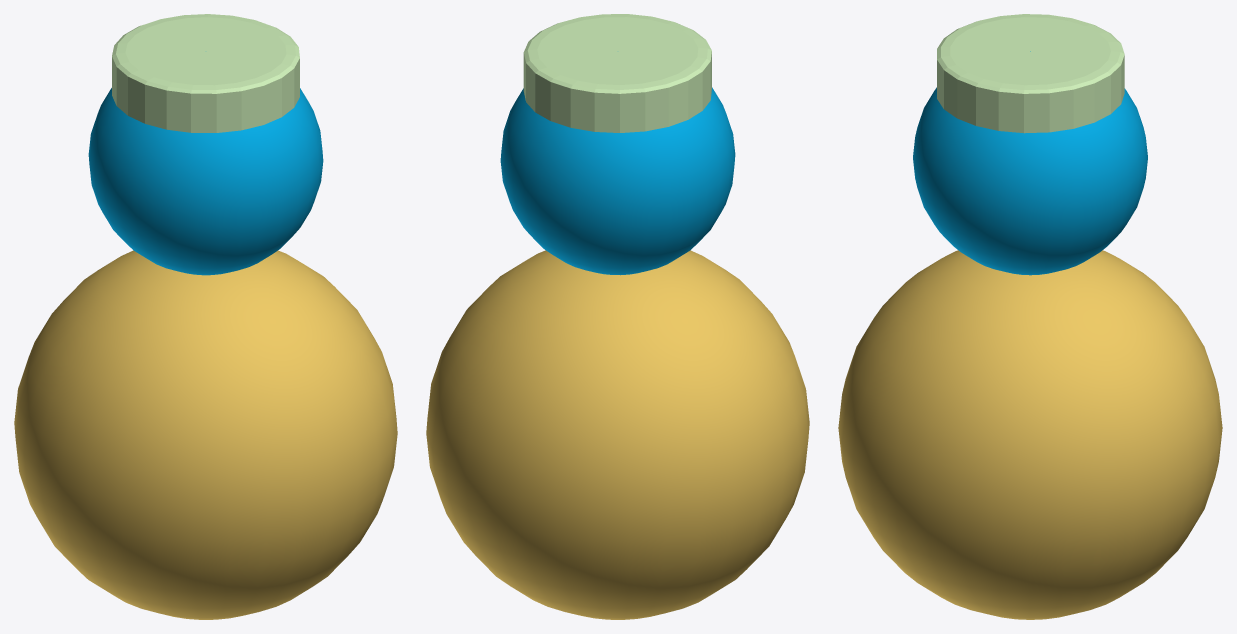
The model's file is cika 4.fbx.
3 views of the same model, side by side, from view 1: azimuth 30°, elevation 25°; view 2: azimuth 150°, elevation 25°; view 3: azimuth 270°, elevation 25° (orthographic).
Parts seen in each view (by area): view 1: Sphere.004; view 2: Sphere.004; view 3: Sphere.004.
Part boxes in pixels (bbox=[...]): Sphere.004: bbox=[14, 14, 397, 619]; Sphere.004: bbox=[426, 14, 809, 619]; Sphere.004: bbox=[838, 14, 1222, 619].
Bounding box in the file's own units: 183 × 290 × 183.
